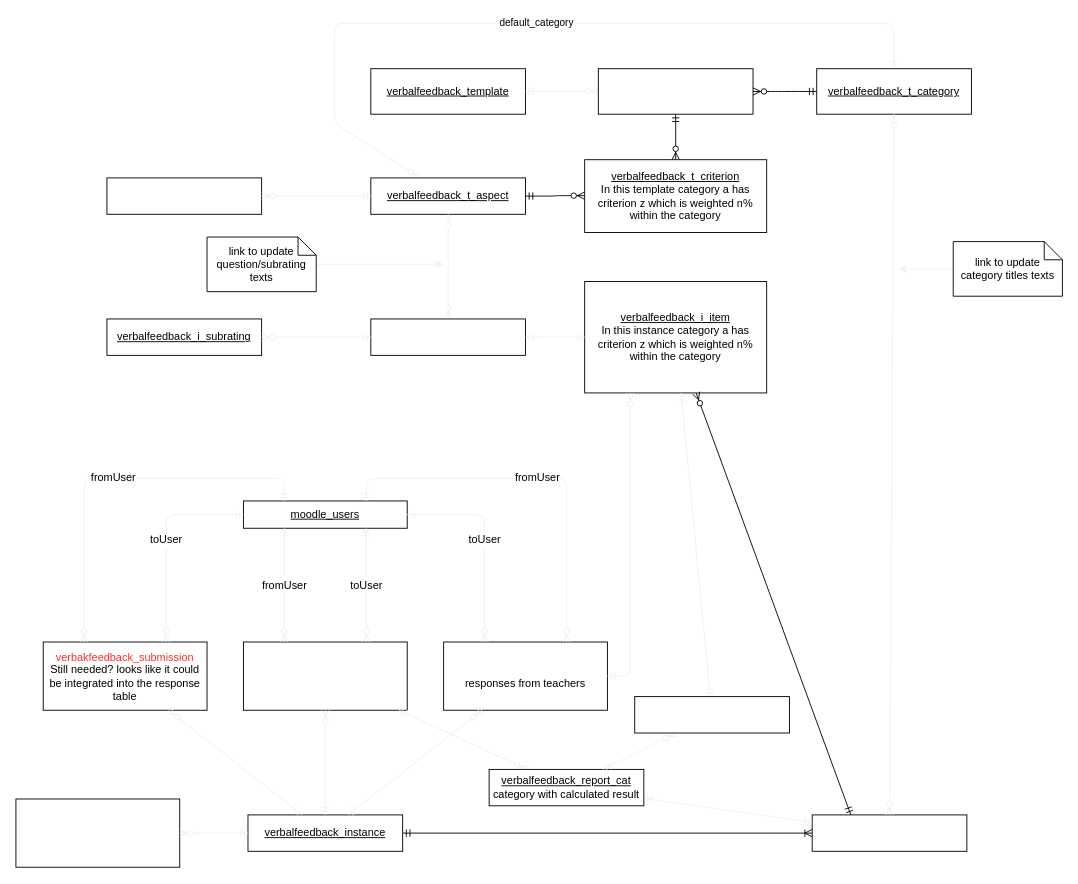
Image size: 1078x884. Some labels were removed from this diagram. The box of each missing label's shape, as (x1, y1, x2, y2) in pixels:
verbakfeedback_calculations Cached calculated results of the reports.: (15, 798, 180, 867)
verbakfeedback_report Edited report from master_teacher: (243, 641, 407, 710)
verbalfeedback_i_category: (811, 814, 967, 851)
verbalfeedback_i_criterion: (370, 318, 526, 355)
verbalfeedback_report_item item with final result: (634, 696, 789, 733)
verbalfeedback_t_subrating: (106, 177, 262, 214)
verbalfeedback_tpl_cat Template x has category a which is weighted m%: (597, 68, 753, 114)
